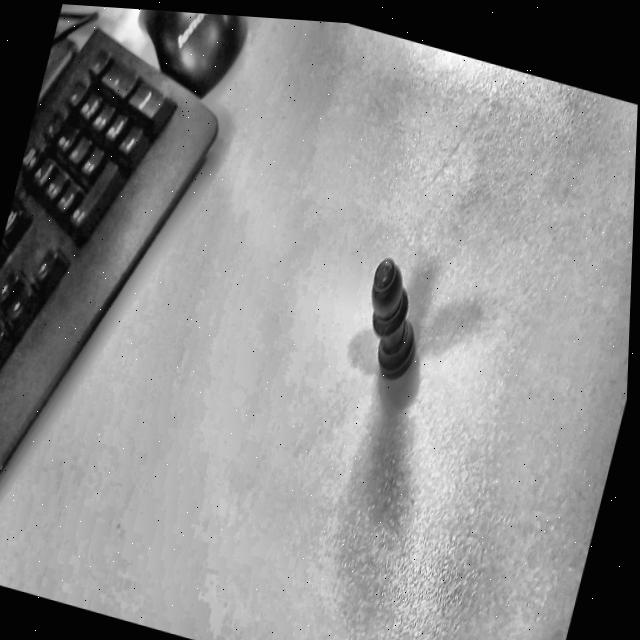black-bishop: (344, 247, 440, 393)
